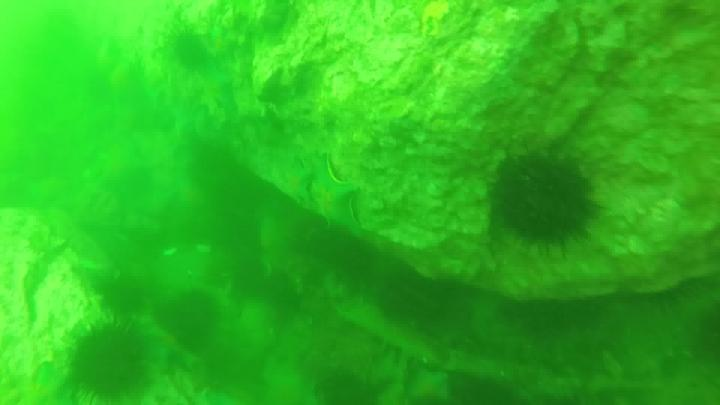echinus: (499, 149, 594, 260), (69, 322, 144, 401), (317, 149, 360, 235), (158, 292, 225, 346), (101, 282, 148, 322), (173, 34, 210, 76), (282, 160, 317, 203)
